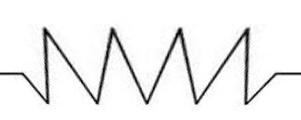resistor: (7, 19, 288, 112)
